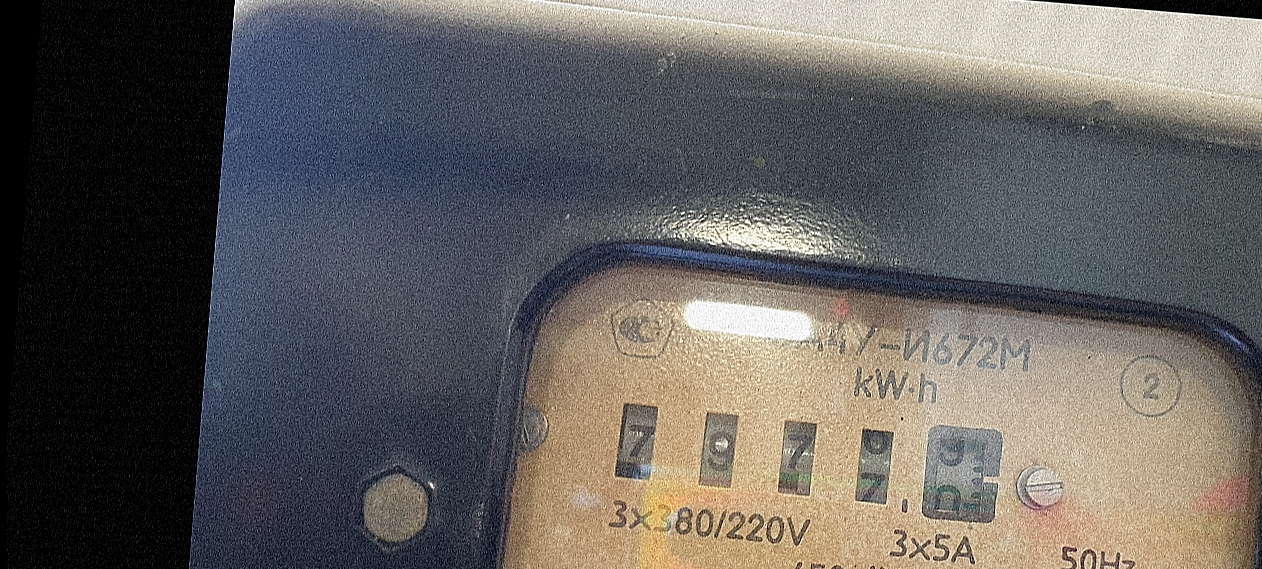0: (930, 478, 966, 519)
7: (782, 429, 816, 474), (624, 419, 657, 464), (856, 468, 889, 506)
9: (703, 426, 740, 474), (936, 431, 970, 469)
screen: (593, 378, 1030, 548)
